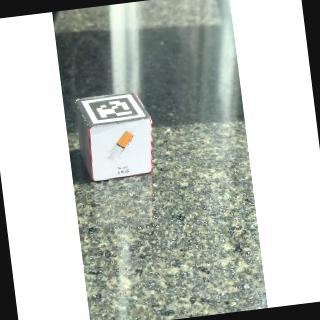Syringe: (91, 120, 159, 184)
